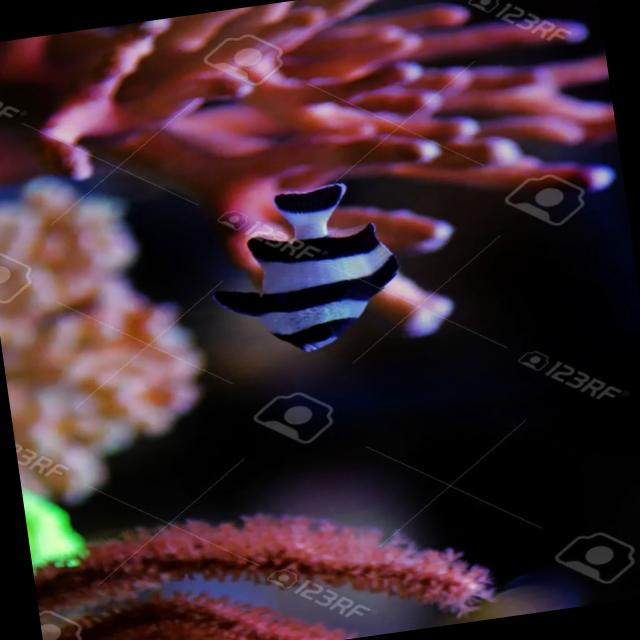ThreeStripedDamselfish: (198, 175, 413, 368)
